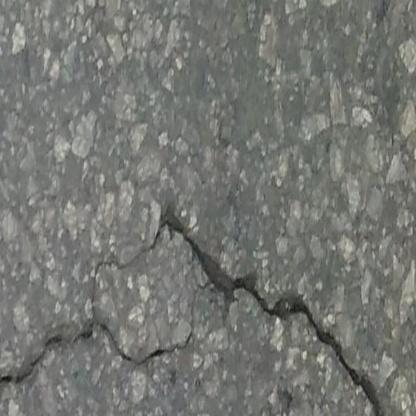Cracks: (140, 203, 414, 416), (0, 254, 108, 398)
